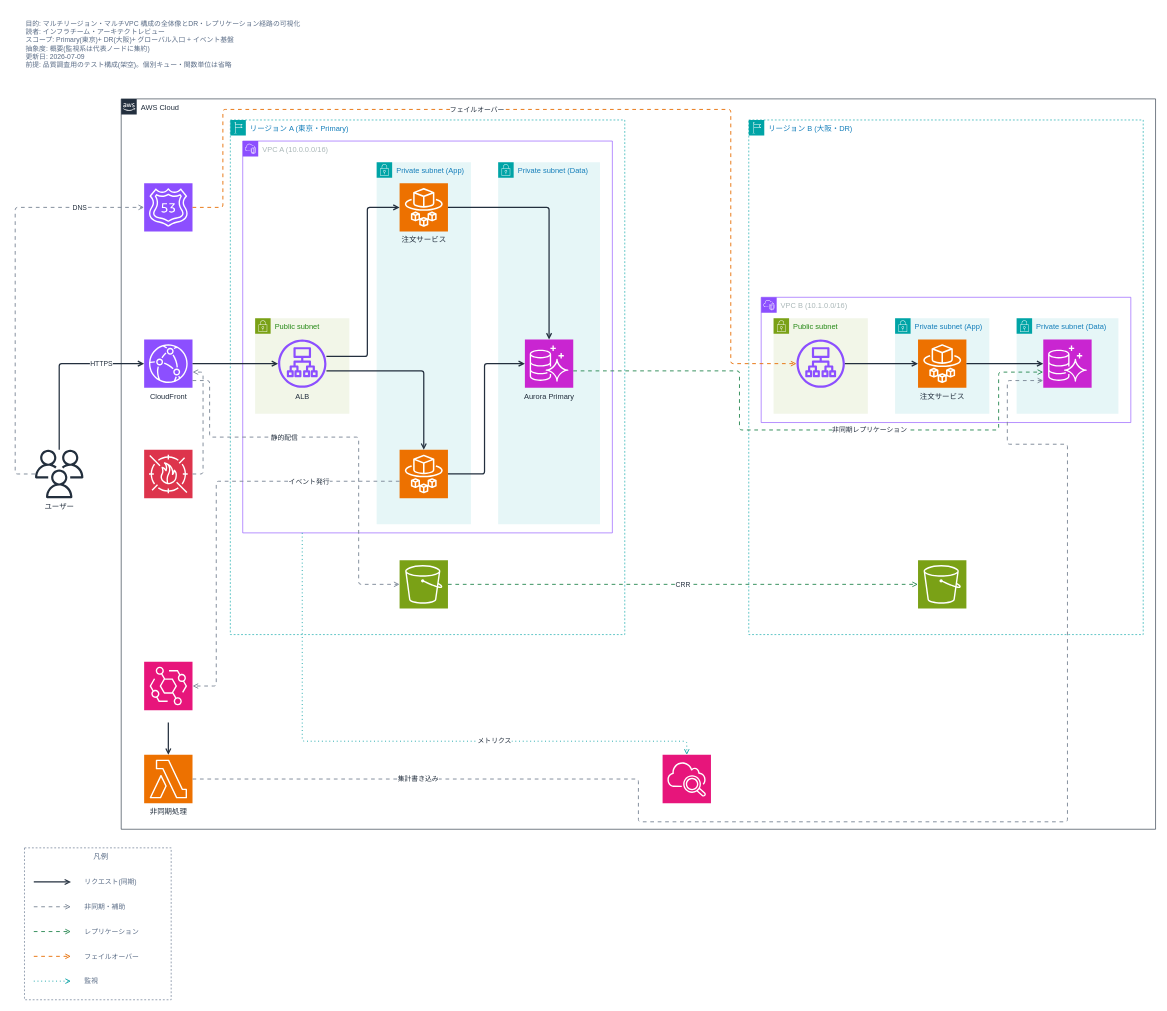
The diagram is 1167 pixels wide and 1011 high, and some of its shapes have lost their labels. The centre of each missing label's shape, as x and y in pixels:
"ALB (DR)" belongs at pixel 820 363.
"Aurora Replica" belongs at pixel 1067 363.
"CloudWatch" belongs at pixel 686 778.
"EventBridge" belongs at pixel 168 685.
"Route 53" belongs at pixel 168 207.
"S3 (DRコピー)" belongs at pixel 941 584.
"S3 (静的資産)" belongs at pixel 423 584.
"WAF" belongs at pixel 168 473.
"在庫サービス" belongs at pixel 423 473.
